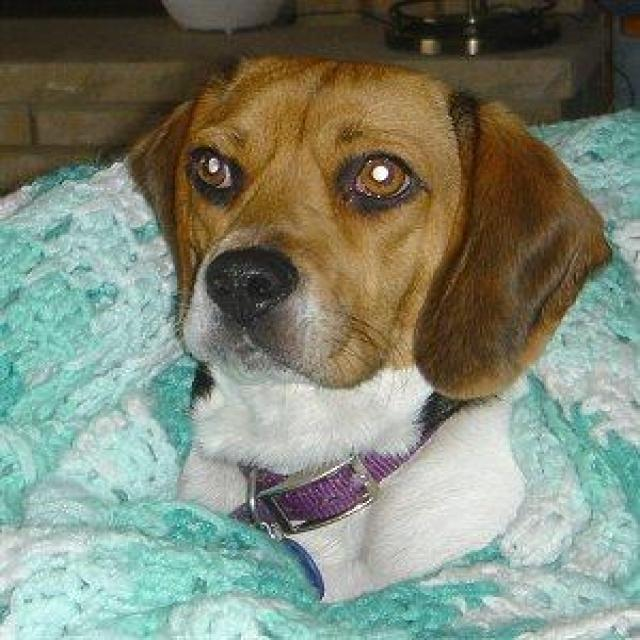beagle: (124, 39, 616, 601)
